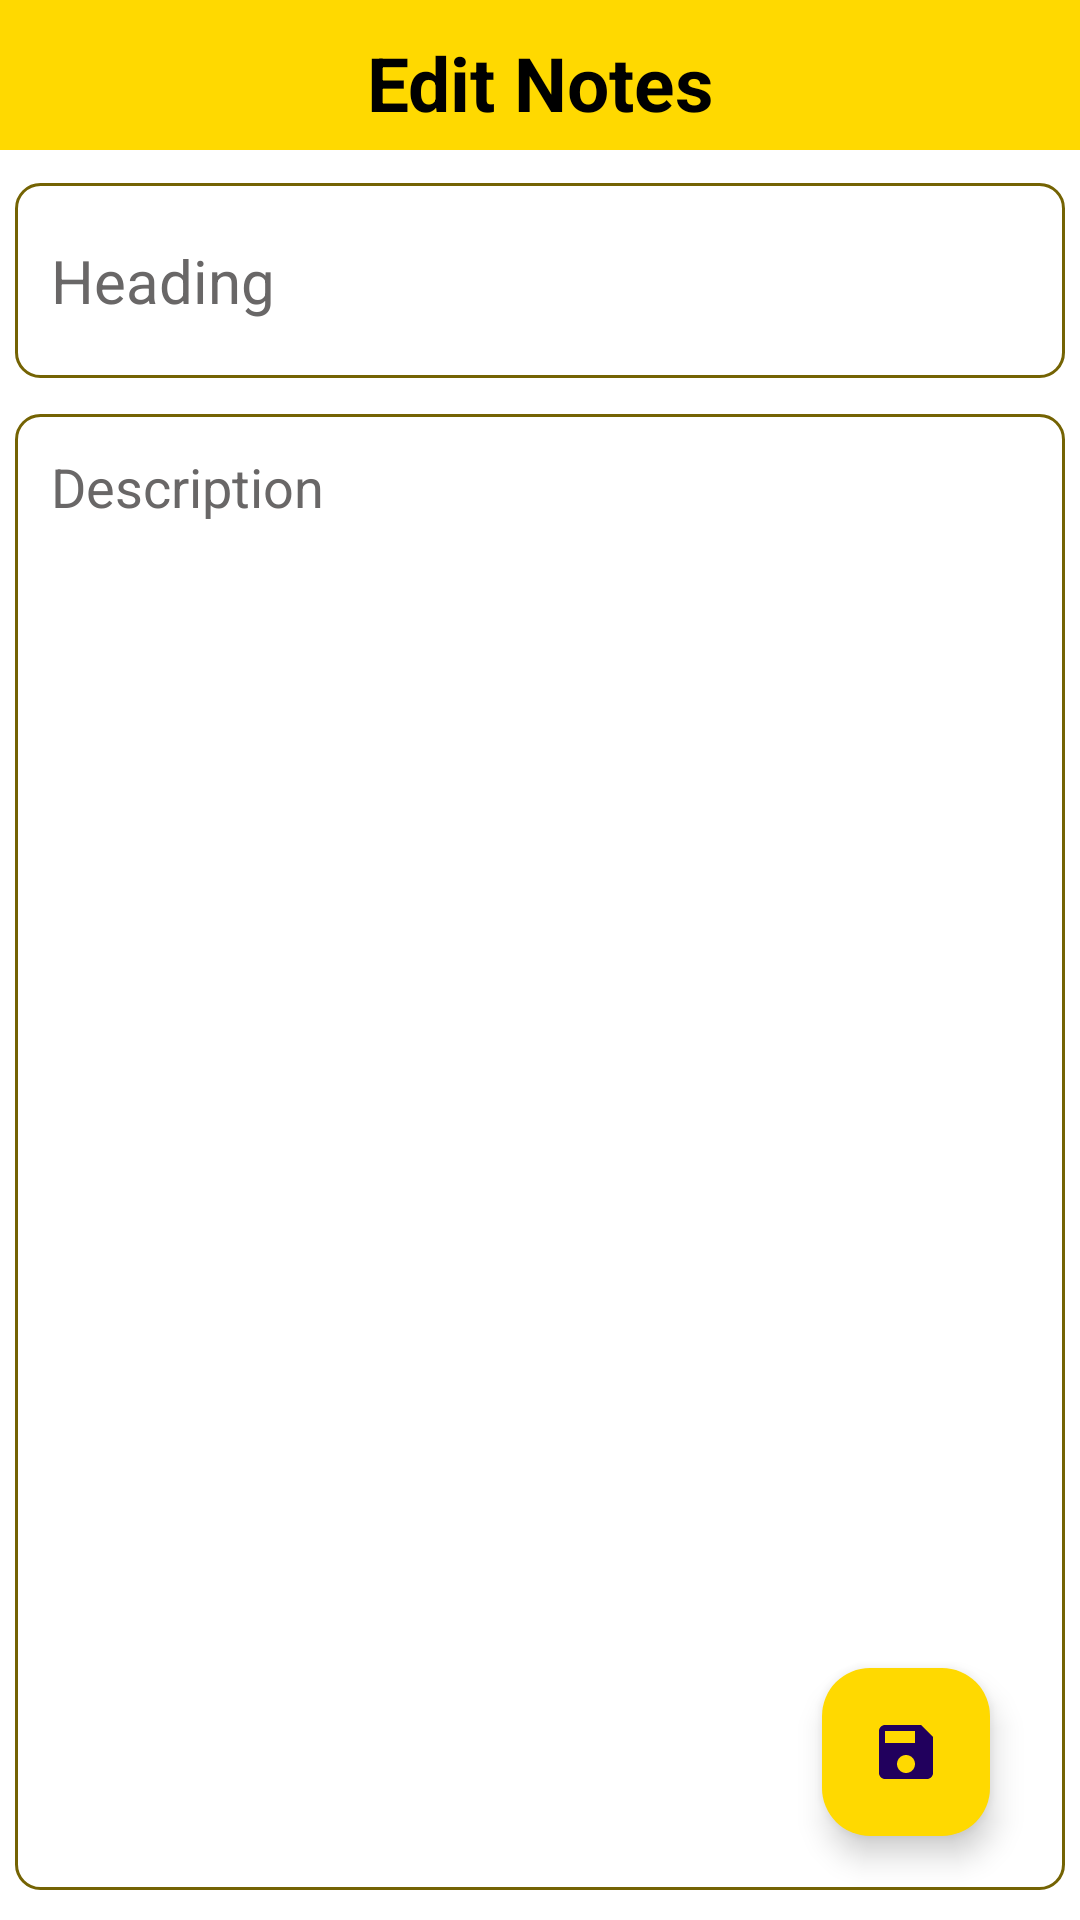

Icon click points for this 1080x1920 phone screenshot, format (x=x, y=y):
save: (x=906, y=1752)
